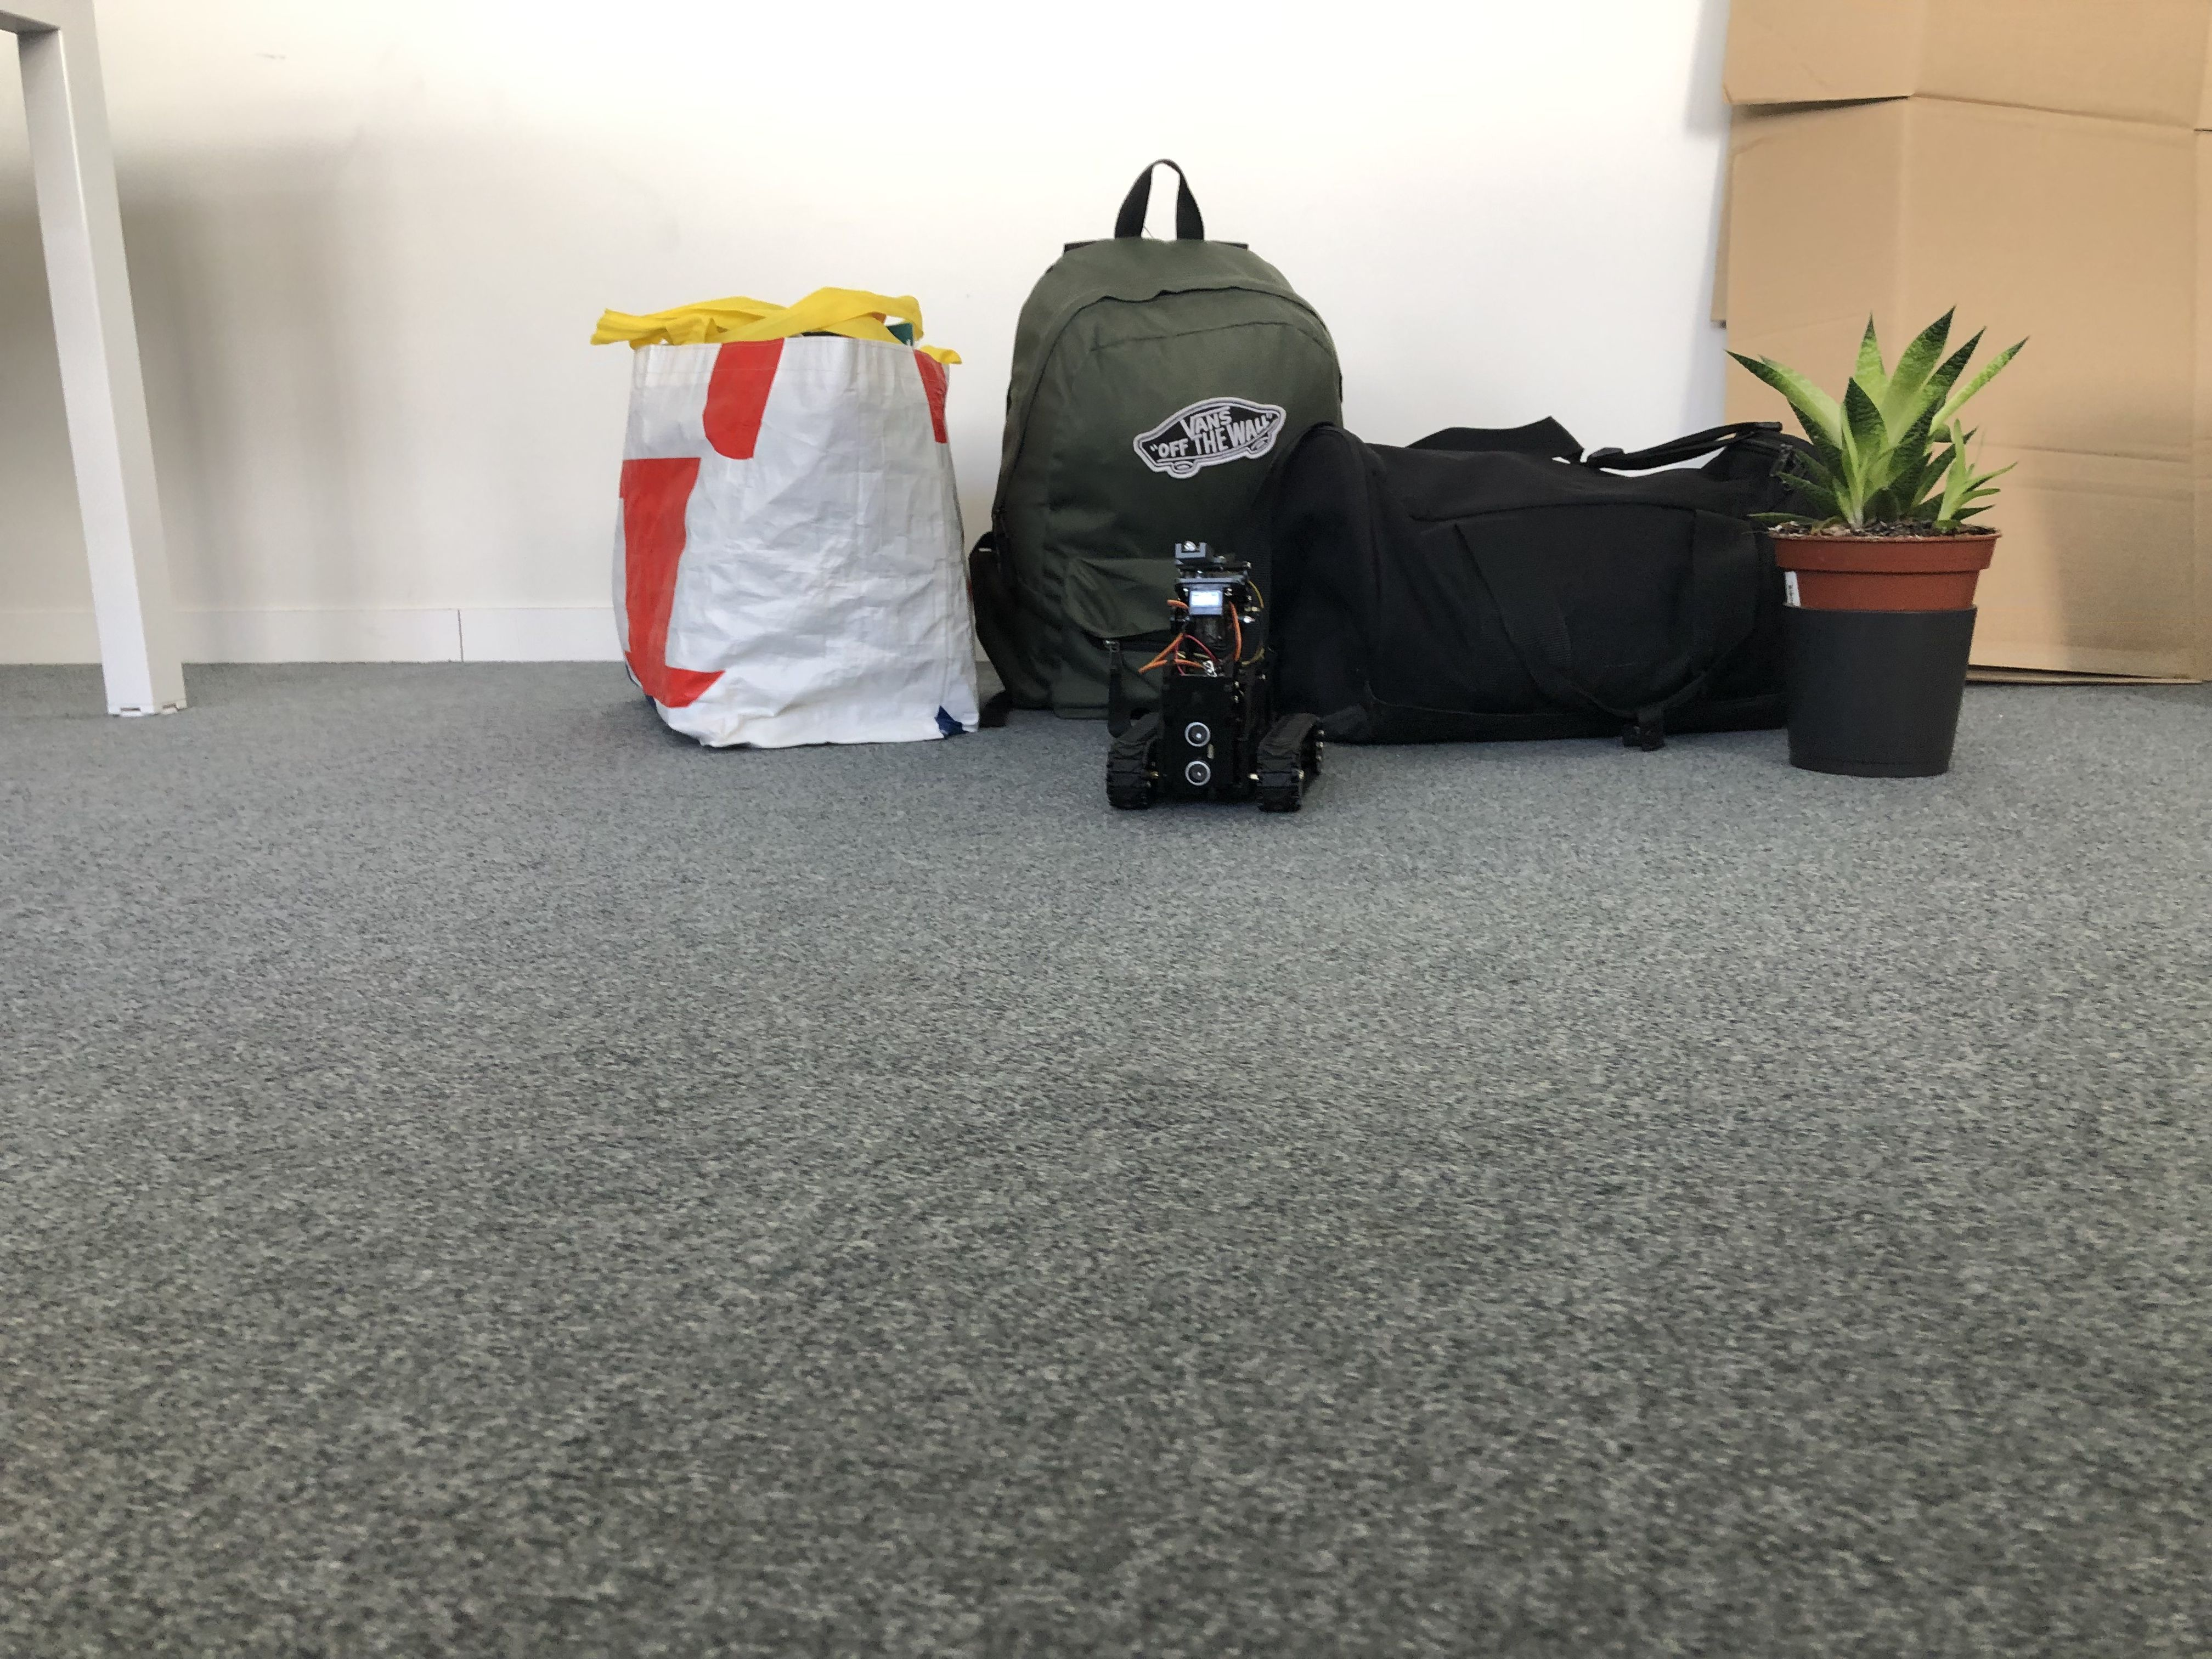rasptank: (1106, 535, 1332, 817)
